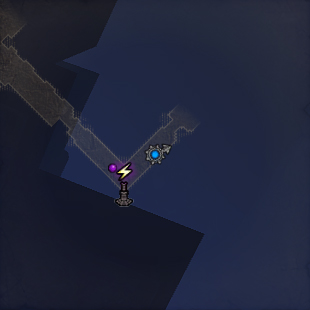ConduitPylon: (114, 162, 134, 207)
